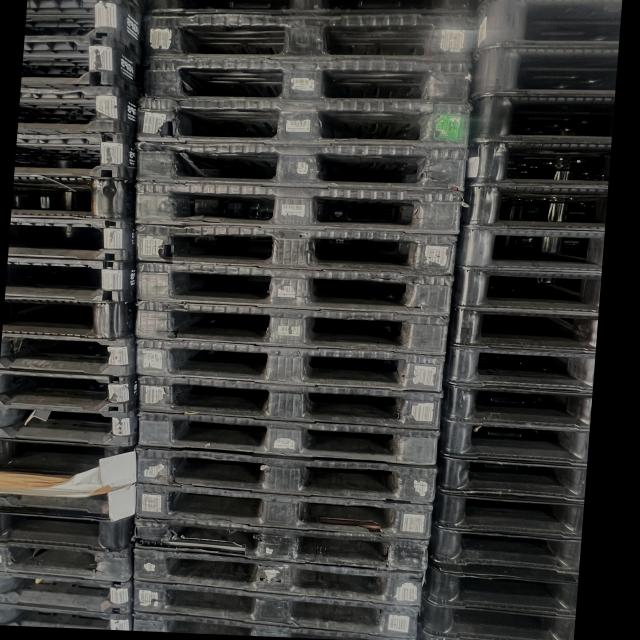igps: (130, 175, 467, 238), (133, 256, 457, 320), (132, 297, 454, 359), (131, 138, 472, 196), (132, 443, 440, 507), (132, 222, 460, 281), (131, 544, 425, 609), (136, 372, 447, 433), (132, 335, 448, 395), (133, 480, 435, 542), (131, 99, 477, 153), (130, 513, 430, 575), (133, 409, 442, 469), (132, 577, 420, 640), (138, 12, 480, 65), (137, 54, 474, 107), (0, 436, 140, 522), (419, 559, 581, 621), (466, 41, 623, 102), (423, 521, 586, 578), (464, 89, 621, 148), (428, 488, 588, 544), (456, 219, 608, 277), (440, 341, 600, 396), (18, 33, 149, 100), (131, 610, 418, 640), (456, 181, 612, 236), (453, 262, 606, 318), (436, 452, 591, 506), (413, 589, 577, 640), (443, 379, 597, 433), (436, 418, 594, 470), (469, 0, 626, 51), (445, 306, 601, 357), (463, 139, 615, 191), (19, 0, 148, 59), (137, 0, 480, 22), (0, 363, 142, 416), (0, 253, 141, 306), (0, 400, 145, 450), (6, 213, 142, 266), (0, 294, 140, 345), (15, 83, 141, 139), (0, 503, 138, 554), (9, 130, 140, 182), (0, 331, 139, 380), (0, 569, 137, 618), (0, 538, 138, 586), (9, 173, 139, 223), (0, 600, 136, 634)
